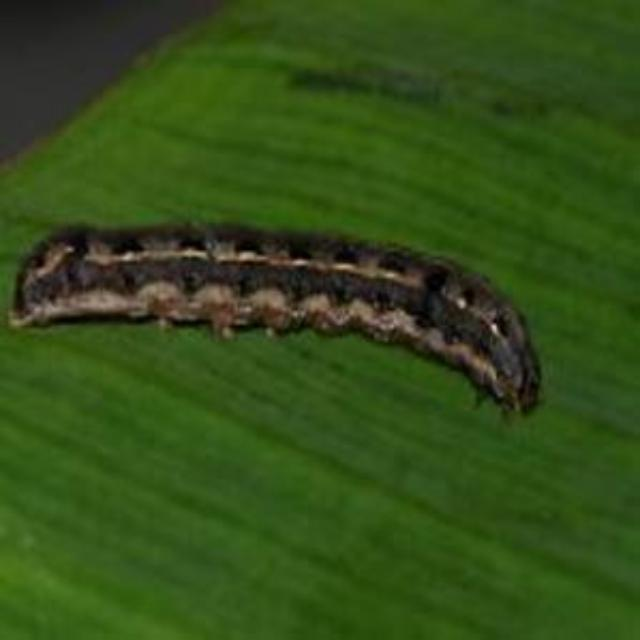Tobacco cutworm: (2, 168, 592, 478)
